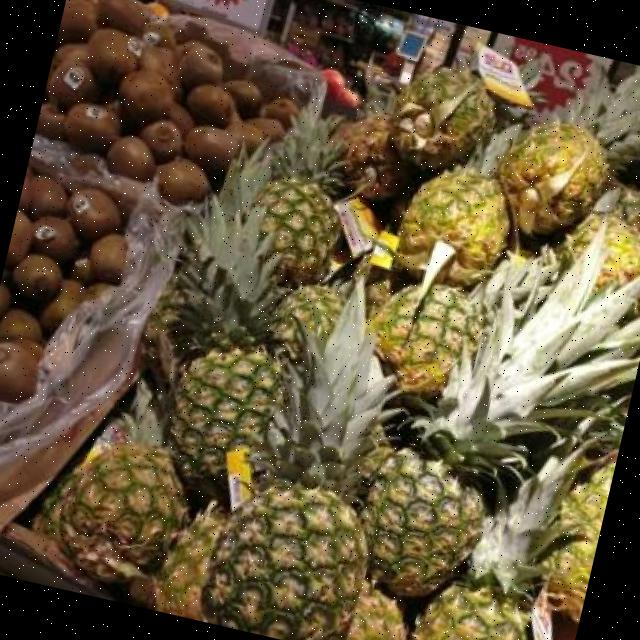pineapple: (357, 238, 640, 601), (202, 275, 391, 640), (170, 198, 281, 501), (415, 450, 581, 640), (497, 70, 640, 234), (38, 445, 185, 583), (401, 125, 521, 281), (390, 45, 531, 169), (256, 111, 343, 283), (370, 284, 482, 396), (130, 501, 225, 621), (547, 461, 615, 622), (334, 115, 410, 199), (271, 285, 344, 359), (345, 581, 406, 640), (596, 214, 640, 287), (566, 214, 602, 258)
